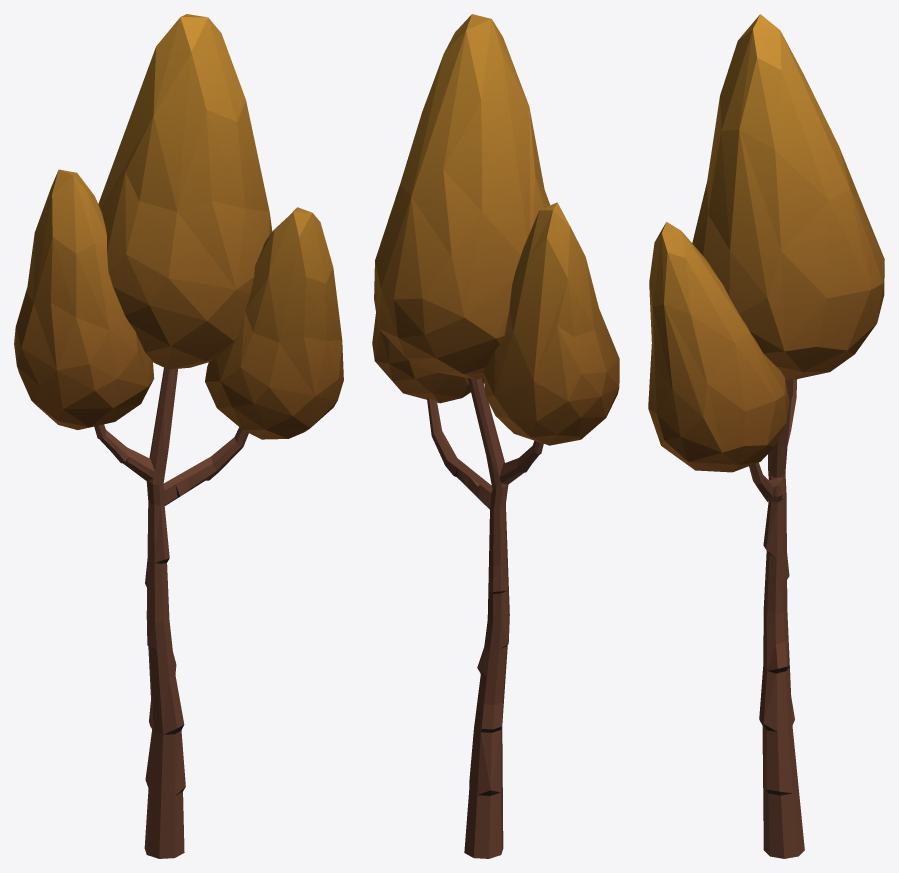
File: ZLP_Plant_J_8.FBX
3 renders of one model, left to right at view 1: azimuth 30°, elevation 25°; view 2: azimuth 150°, elevation 25°; view 3: azimuth 270°, elevation 25°, orthographic. The views are drawn at different scales.
Parts seen in each view (by area): view 1: ZLP_Plant_J_8; view 2: ZLP_Plant_J_8; view 3: ZLP_Plant_J_8.
Boxes of the visible parts, bbox=[...] form: ZLP_Plant_J_8: bbox=[14, 14, 343, 858]; ZLP_Plant_J_8: bbox=[372, 14, 619, 858]; ZLP_Plant_J_8: bbox=[648, 14, 884, 858].
Size of the model in its own units: 303 by 892 by 228.
